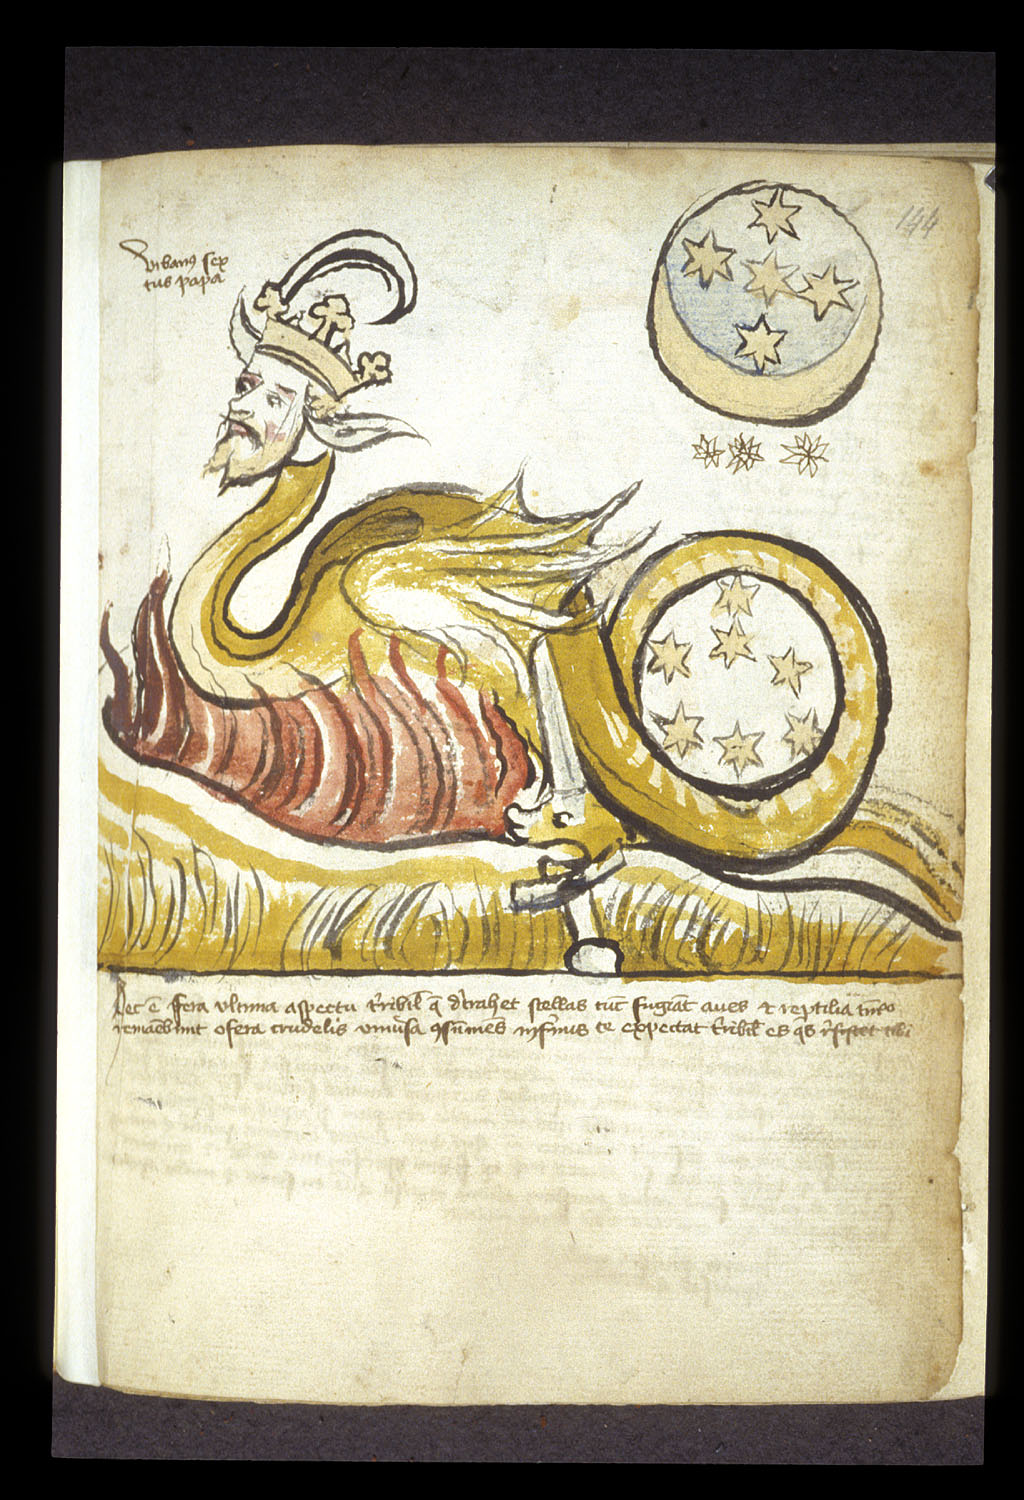crown: (251, 278, 395, 397)
dragon: (174, 445, 968, 935)
